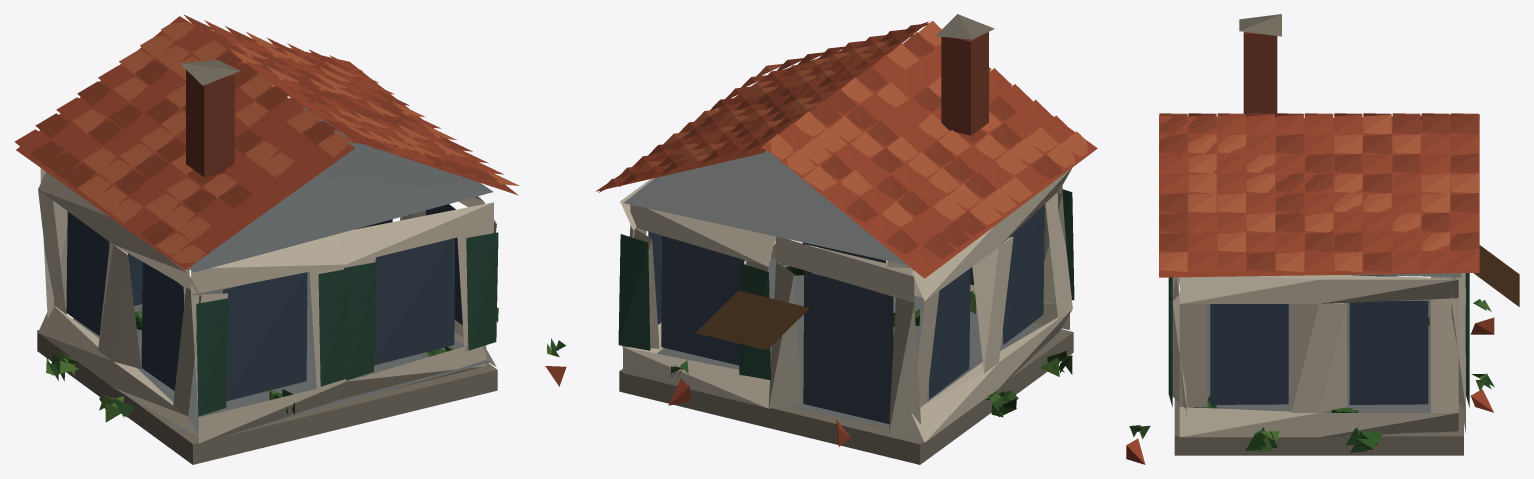
File: house_small.glb
3 renders of one model, left to right at view 1: azimuth 30°, elevation 25°; view 2: azimuth 150°, elevation 25°; view 3: azimuth 270°, elevation 25°, orthographic. The views are drawn at different scales.
Bounding box in the file's own units: 3.68 × 3.06 × 3.36.
